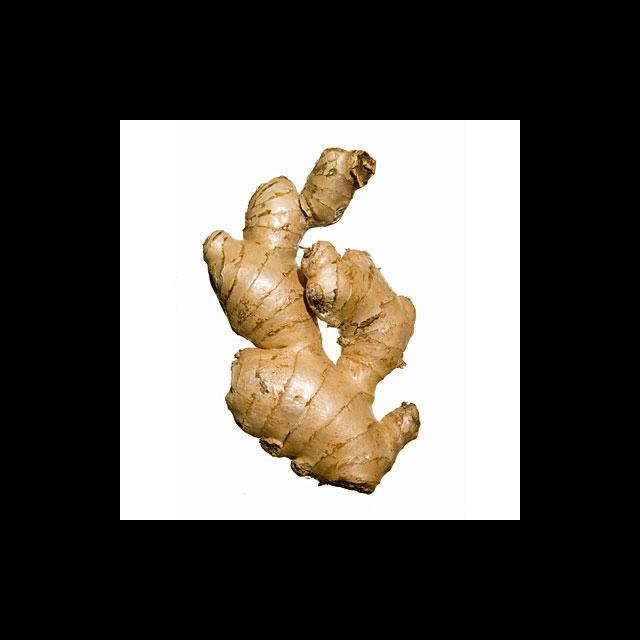ginger: (205, 151, 418, 491)
